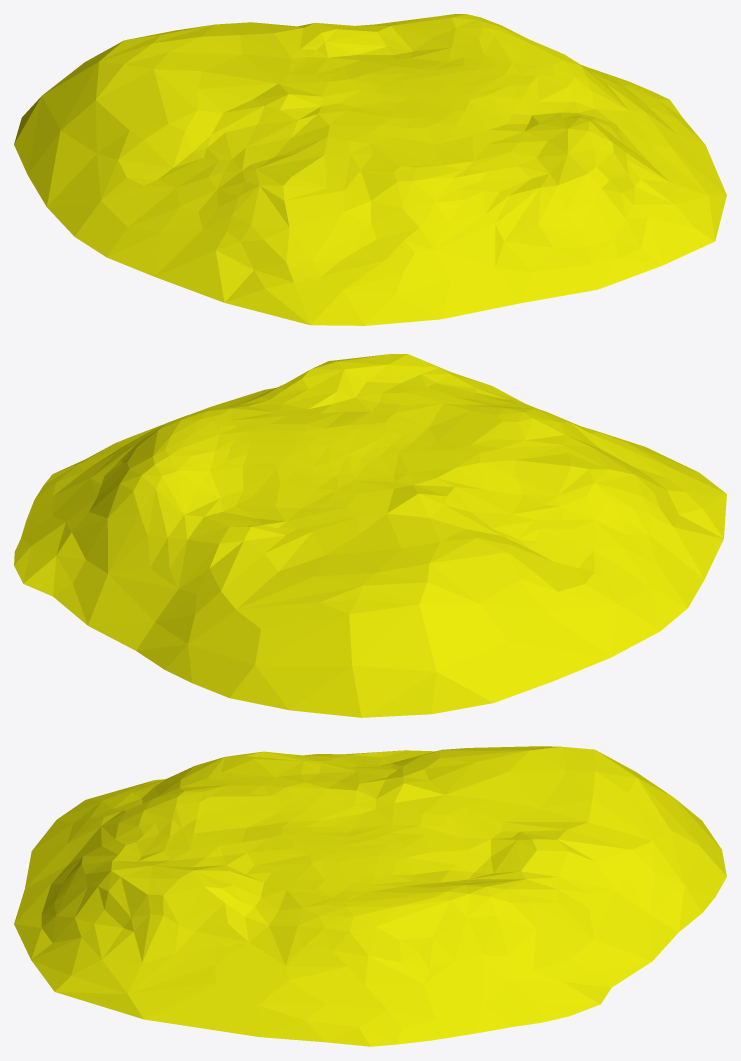
Rendered from SM_Generic_Ground_04.glb.
The picture shows the model from 3 angles, top to bottom: view 1: azimuth 30°, elevation 25°; view 2: azimuth 150°, elevation 25°; view 3: azimuth 270°, elevation 25°; orthographic projection. The views are drawn at different scales.
Parts seen in each view (by area): view 1: SM_Generic_Ground_04; view 2: SM_Generic_Ground_04; view 3: SM_Generic_Ground_04.
Part boxes in pixels (x1,y1,x2,y2): SM_Generic_Ground_04: [14, 14, 726, 325]; SM_Generic_Ground_04: [14, 354, 726, 717]; SM_Generic_Ground_04: [14, 746, 726, 1046].
Size of the model in its own units: 18.38 by 2.47 by 19.12.
Materials: 1 (1 with a texture image).
